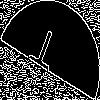T: (25, 25, 61, 80)
